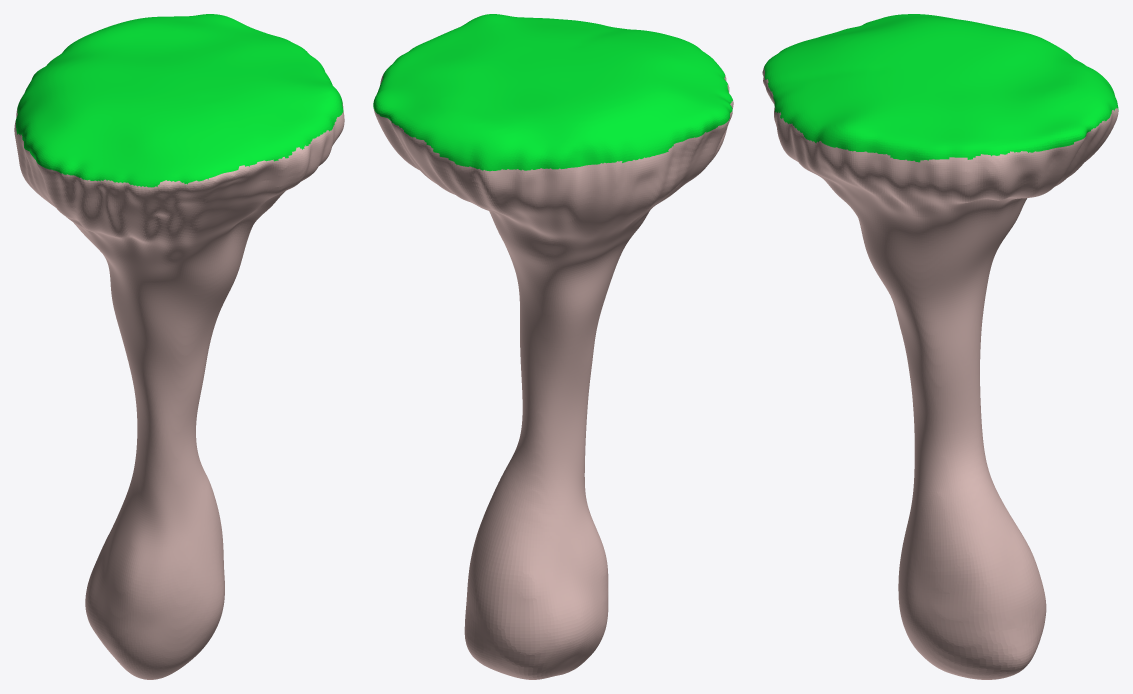
The model's file is aShroom01fbx.fbx.
3 views of the same model, side by side, from view 1: azimuth 30°, elevation 25°; view 2: azimuth 150°, elevation 25°; view 3: azimuth 270°, elevation 25° (orthographic). The views are drawn at different scales.
Parts seen in each view (by area): view 1: Quad Sphere; view 2: Quad Sphere; view 3: Quad Sphere.
Boxes of the visible parts, left/top/right/bottom form: Quad Sphere: left=14, top=14, right=344, bottom=679; Quad Sphere: left=373, top=14, right=733, bottom=679; Quad Sphere: left=762, top=14, right=1118, bottom=679.
Bounding box in the file's own units: 552 × 1046 × 552.
